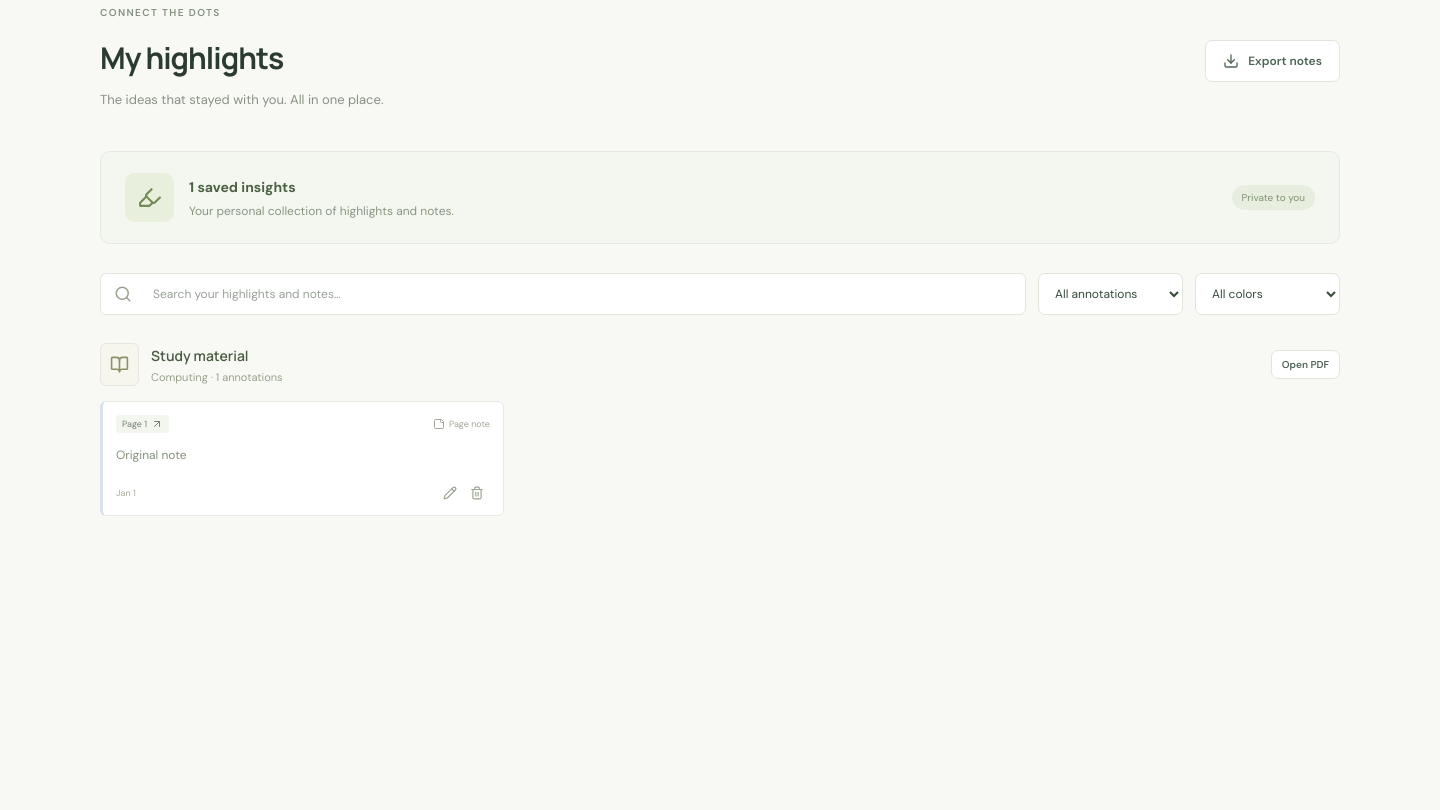
Scenario: My highlights conflict recovery › retains the draft and retries with the refreshed annotation version
Later steps or results of the test are not shown.
Step 1. Click the button named "Edit annotation" → (450, 493), box left=436, top=480, right=463, bottom=507
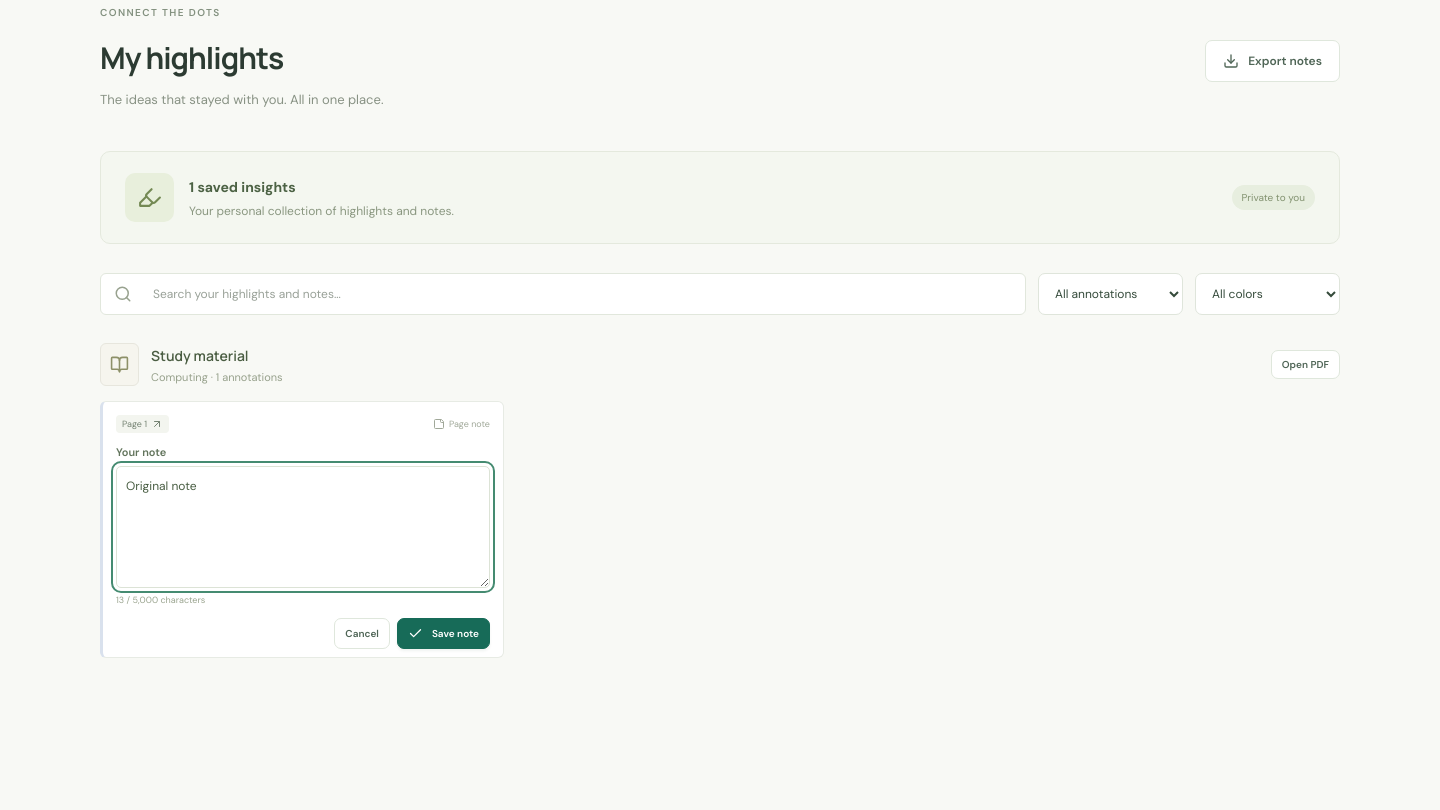
Step 2. Replace the text in the text box labelled "Your note" with "Keep my new draft" → (303, 527), box left=116, top=466, right=490, bottom=588
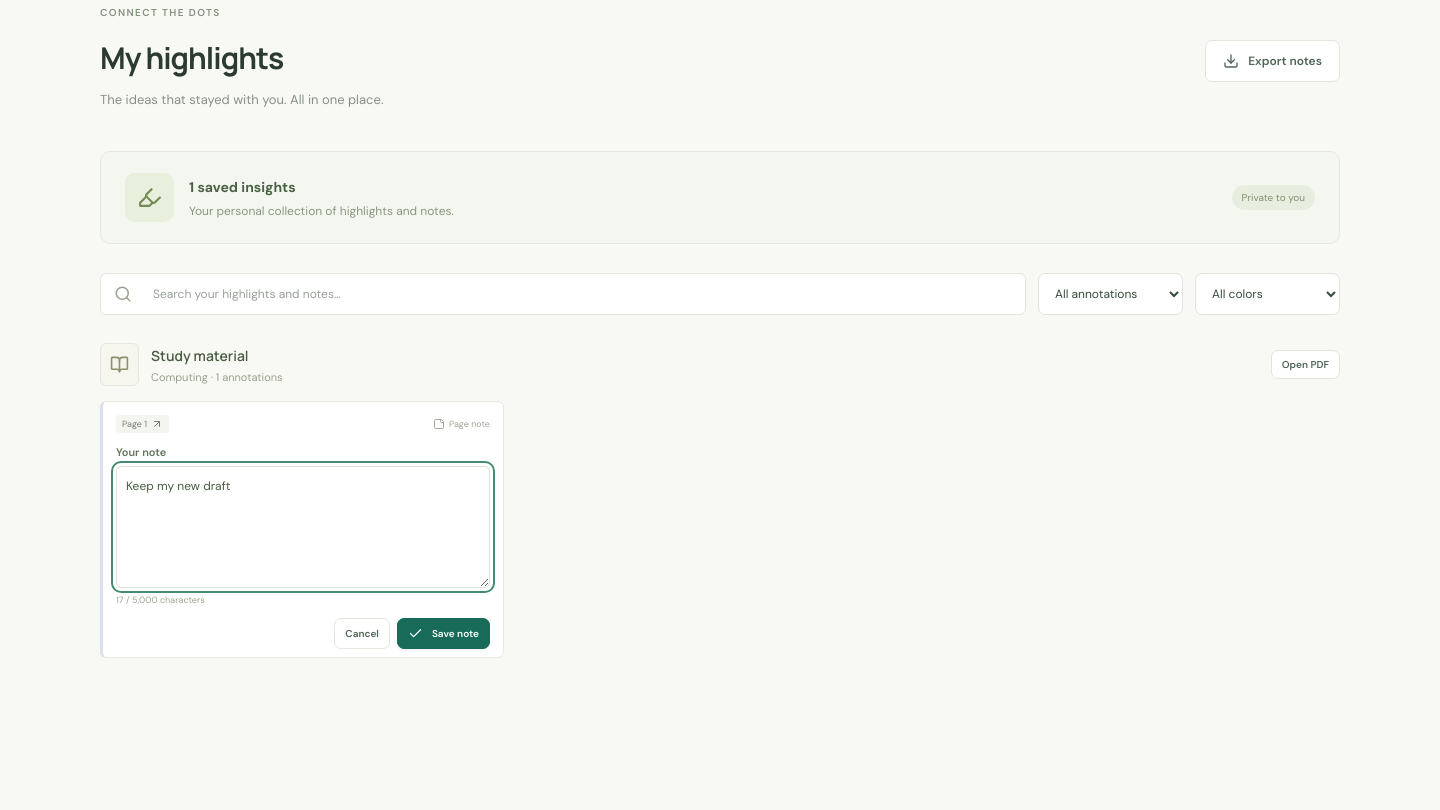
Step 3. Click the button "Save note" → (443, 634), box left=397, top=618, right=490, bottom=649
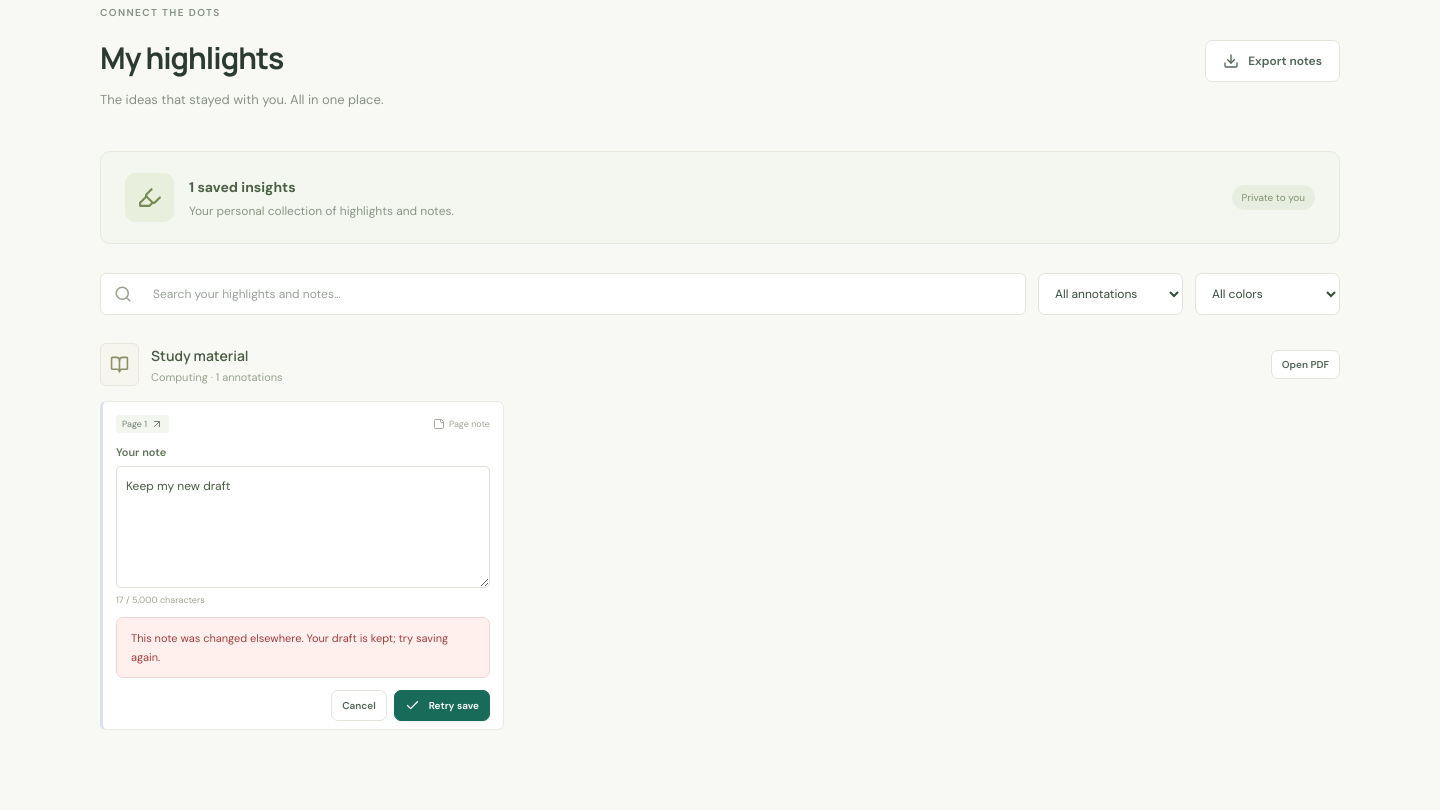
Now the message shows "Your draft is kept", box left=131, top=631, right=448, bottom=664
